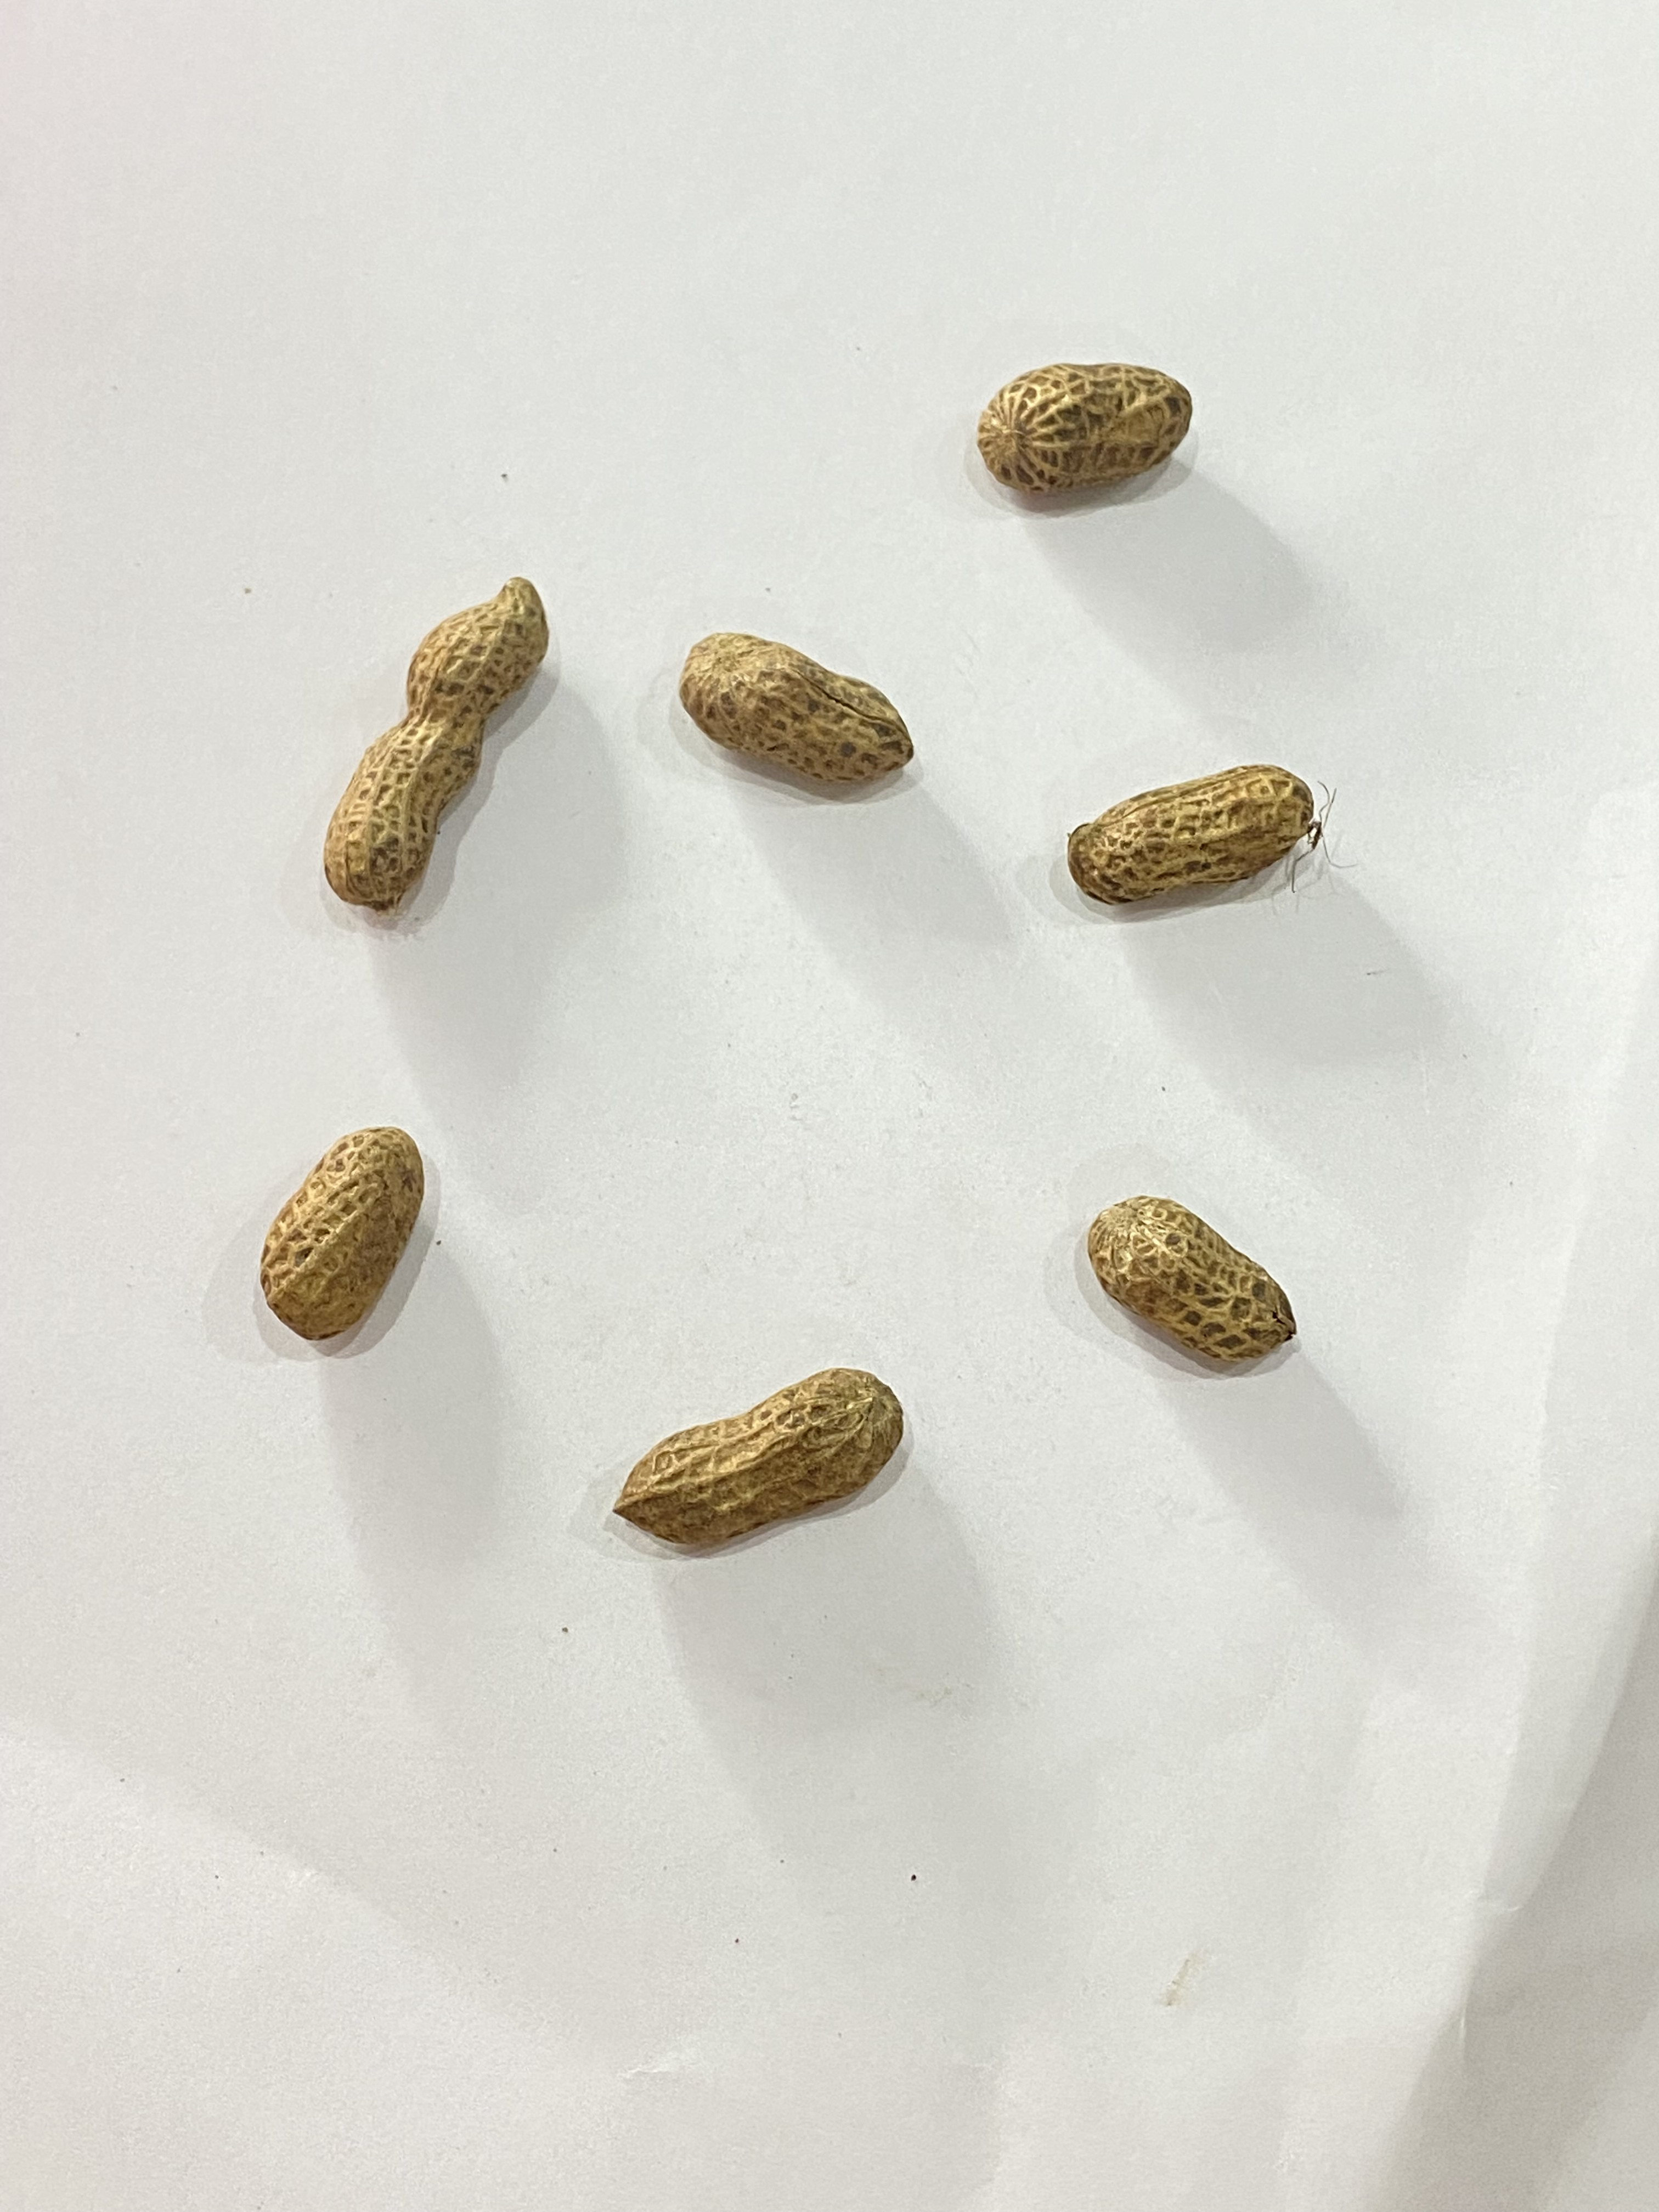kacang1: (254, 1099, 434, 1339), (972, 359, 1202, 502)
kacang2: (605, 1362, 934, 1550), (1089, 1184, 1310, 1378)
kacang3: (324, 564, 559, 921), (1058, 745, 1349, 934), (659, 625, 931, 801)
